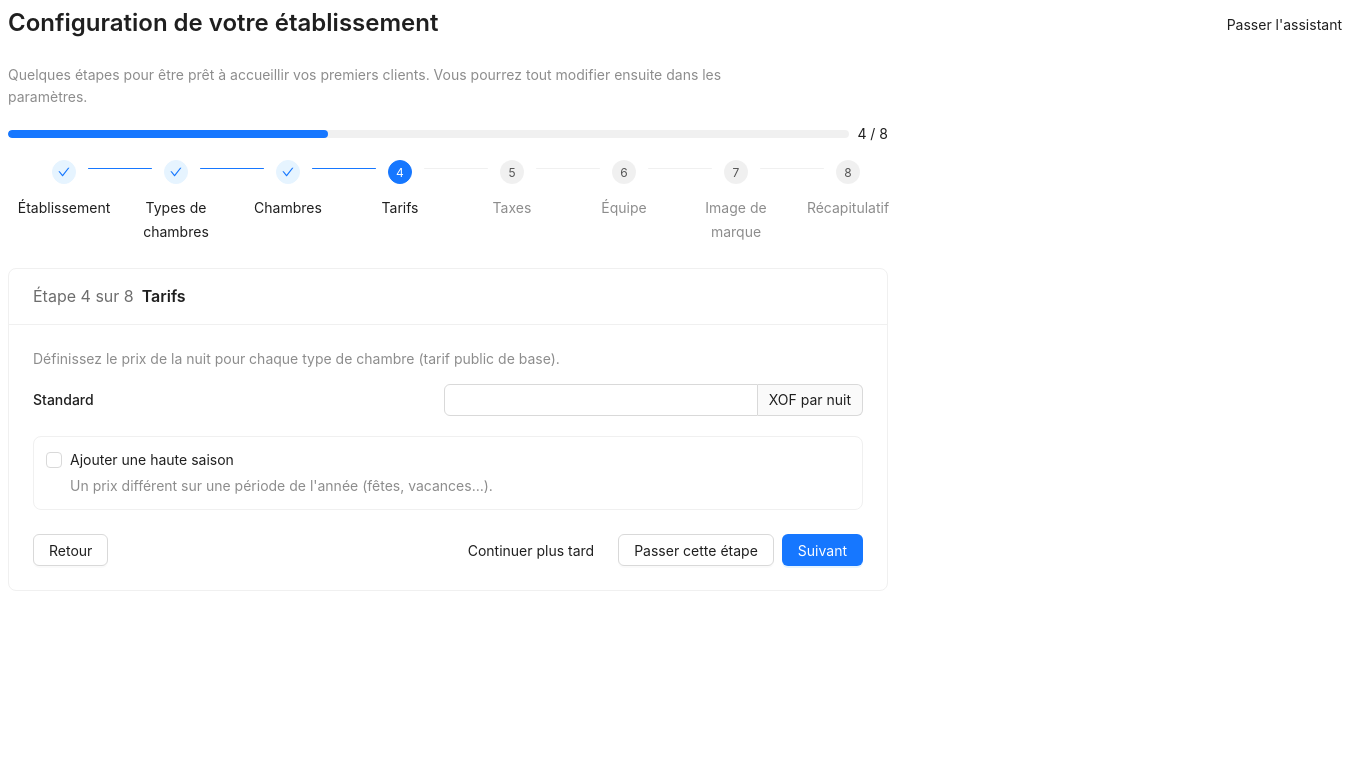
Test case: onboarding wizard › lets the owner skip a step without saving it as completed
expect the text "Étape 4 sur 8" is shown: met, box x1=33 y1=286 x2=134 y2=306
Click the button "Passer cette étape". click: (696, 550)
box: x1=618 y1=534 x2=774 y2=566
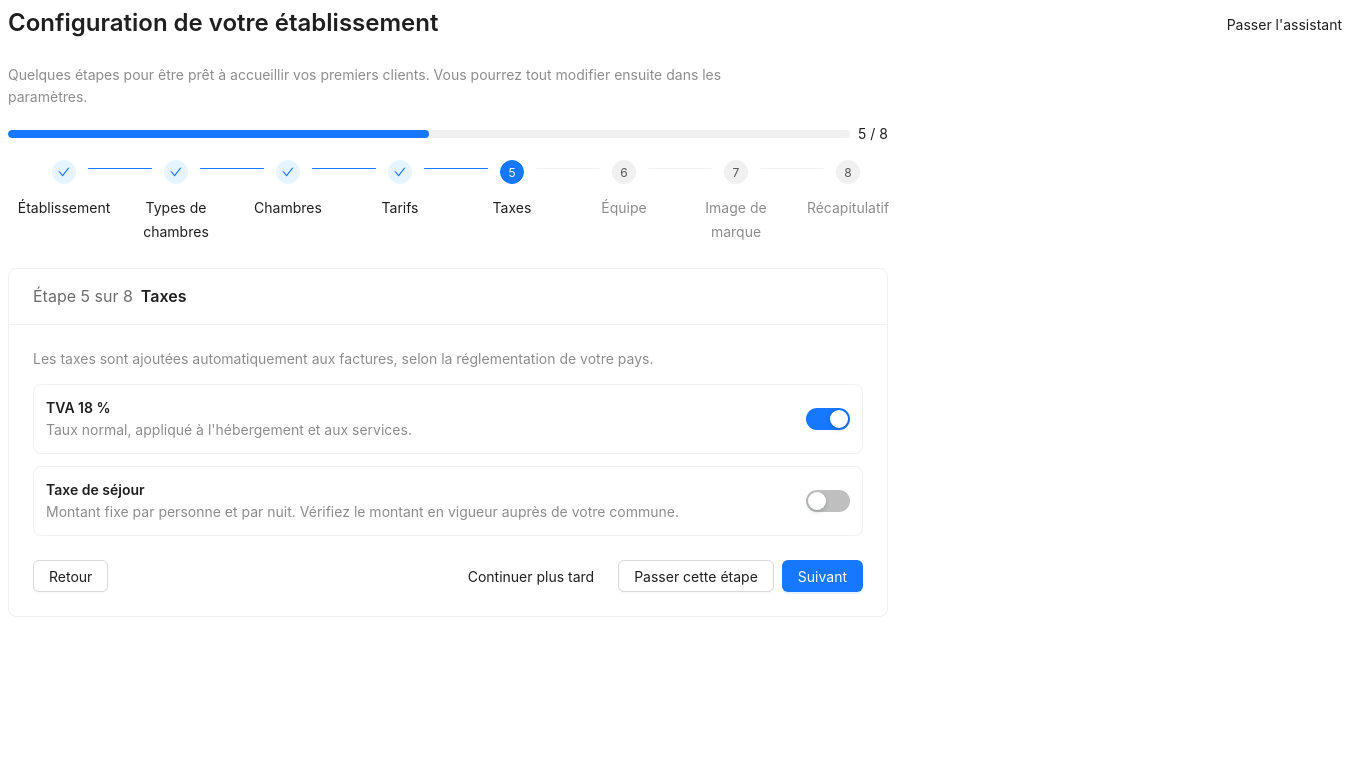
expect the text "Étape 5 sur 8" is shown: met, box x1=33 y1=286 x2=133 y2=306
